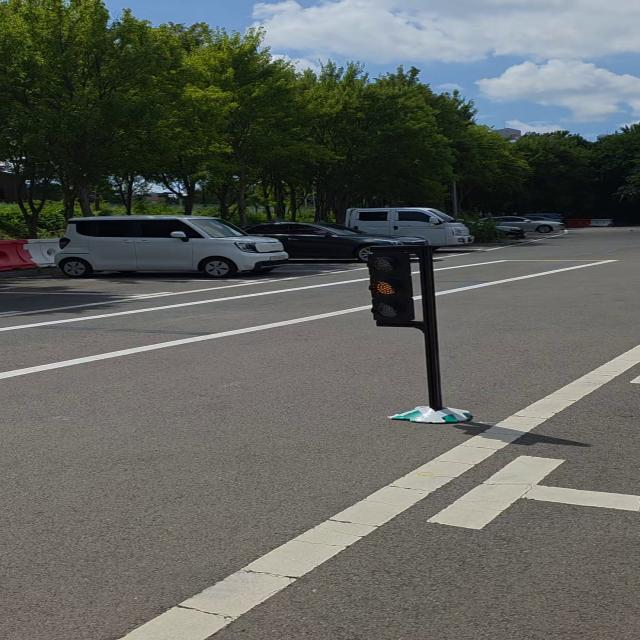yellow: (357, 242, 425, 332)
